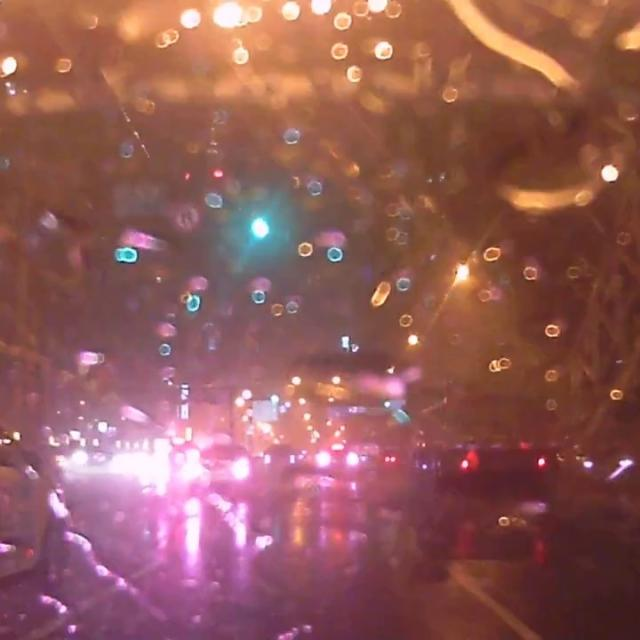Car: (0, 423, 71, 592), (193, 441, 250, 489), (312, 435, 358, 478), (258, 438, 301, 473)
